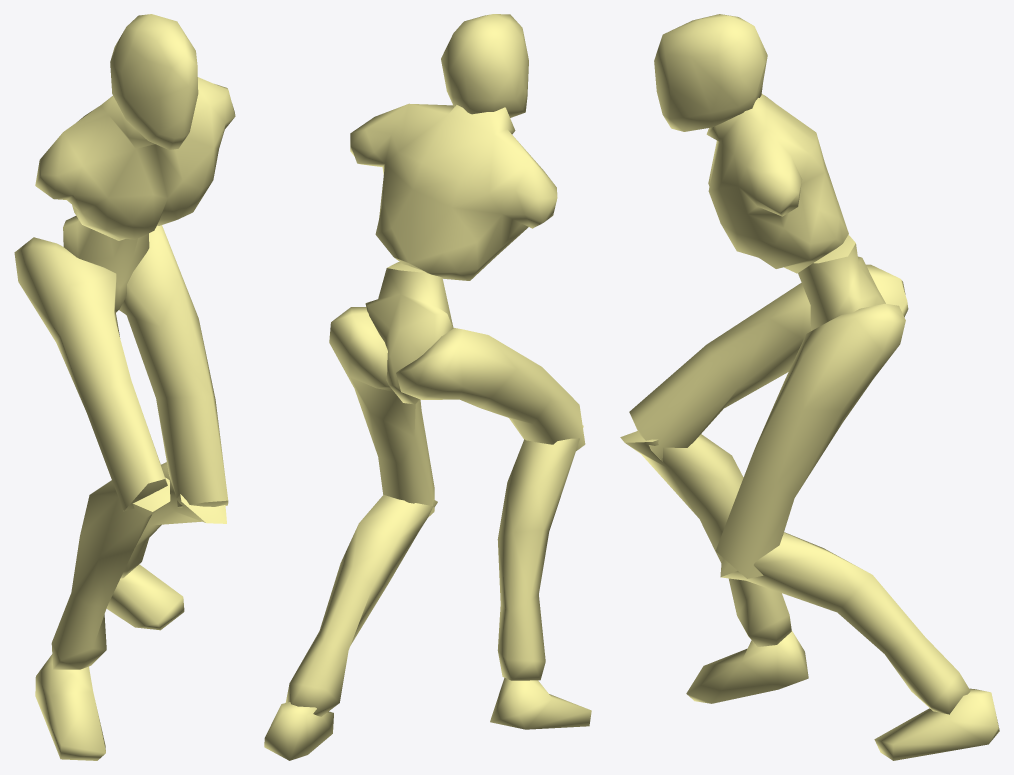
File: filth23.obj
The picture shows the model from 3 angles, left to right: view 1: azimuth 30°, elevation 25°; view 2: azimuth 150°, elevation 25°; view 3: azimuth 270°, elevation 25°; orthographic projection. The views are drawn at different scales.
Visible parts, largest first — view 1: Melee_Husk; view 2: Melee_Husk; view 3: Melee_Husk.
Part boxes in pixels (<box>): Melee_Husk: <box>14,14,235,760</box>; Melee_Husk: <box>264,14,591,760</box>; Melee_Husk: <box>620,14,999,760</box>.
Bounding box in the file's own units: 22.1 × 69.6 × 33.26.
